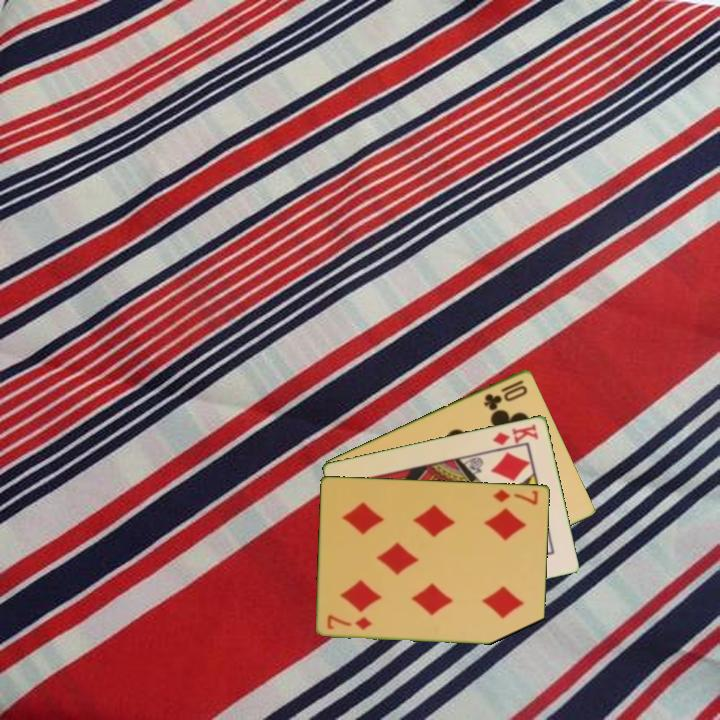10c: (480, 376, 531, 413)
7d: (324, 611, 375, 633), (490, 486, 541, 507)
Kd: (489, 420, 541, 448)
